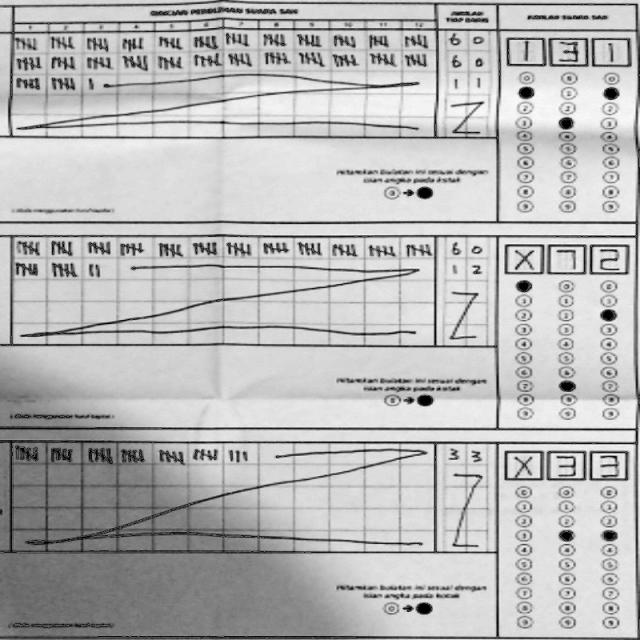Suara: (502, 237, 634, 276), (504, 33, 634, 72), (502, 445, 632, 484)
